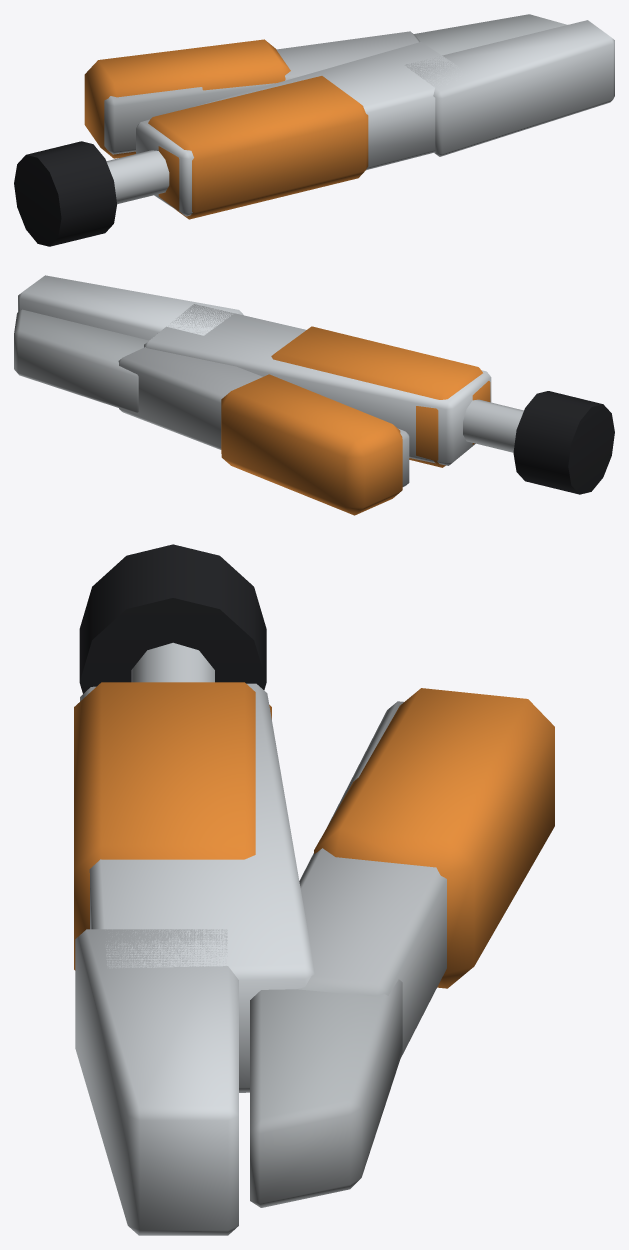
File: SM_Pliers_Locking_01.glb
3 renders of one model, top to bottom at view 1: azimuth 30°, elevation 25°; view 2: azimuth 150°, elevation 25°; view 3: azimuth 270°, elevation 25°, orthographic. The views are drawn at different scales.
Visible parts, largest first — view 1: SM_Pliers_Locking_01; view 2: SM_Pliers_Locking_01; view 3: SM_Pliers_Locking_01.
Part boxes in pixels (x1,y1,x2,y2): SM_Pliers_Locking_01: (14,14,614,246); SM_Pliers_Locking_01: (14,275,614,515); SM_Pliers_Locking_01: (74,544,554,1235).
Size of the model in its own units: 0.235 by 0.034 by 0.0874.
Materials: 1 (1 with a texture image).
